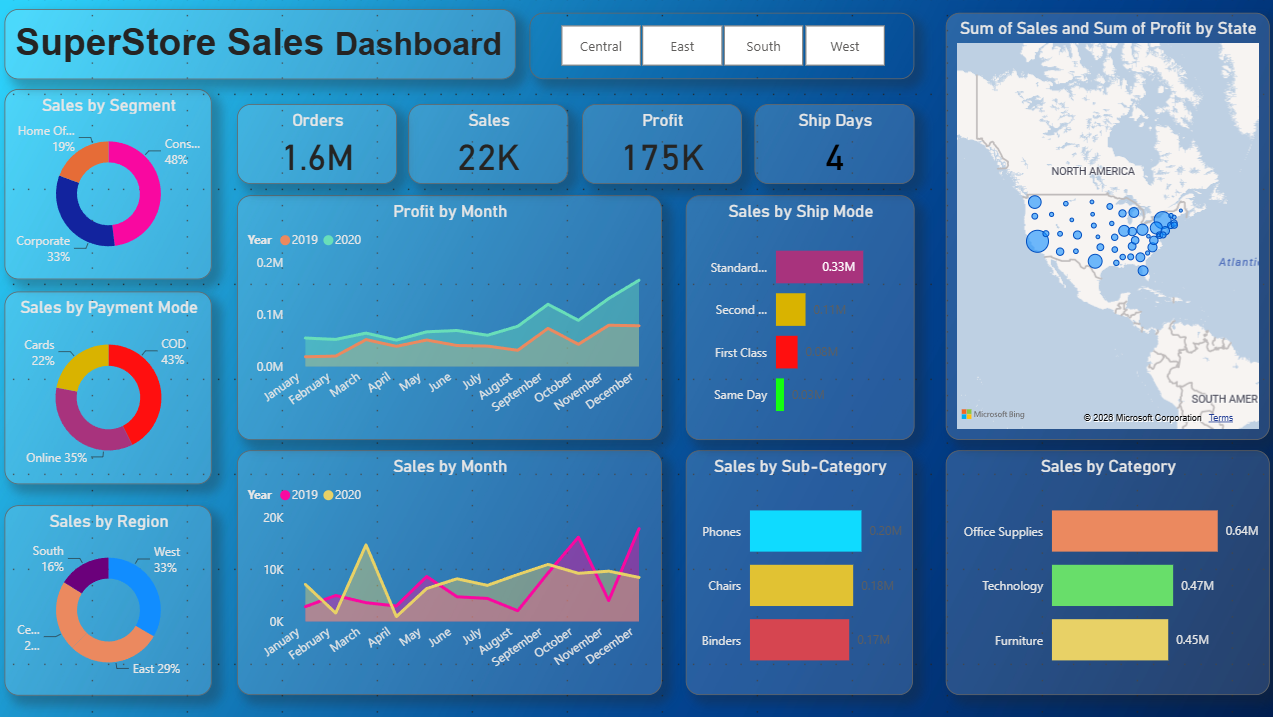

The page's visual inventory and layout, read from the dashboard file:
{"tool":"powerbi","page":{"name":"Page 1","canvas":[1280,720],"ordinal":0},"visuals":[{"type":"clusteredBarChart","title":"Sales by Category","fields":{"Category":["SuperStore_Sales_Dataset.Category"],"Y":["Sum(SuperStore_Sales_Dataset.Sales)"]},"box":[948.8,451.2,323.8,245],"z":0},{"type":"barChart","title":"Sales by Sub-Category","fields":{"Category":["SuperStore_Sales_Dataset.Sub-Category"],"Y":["Sum(SuperStore_Sales_Dataset.Sales)"]},"box":[688.8,451.2,227.5,245],"z":1000},{"type":"clusteredBarChart","title":"Sales by Ship Mode","fields":{"Y":["Sum(SuperStore_Sales_Dataset.Sales)"],"Category":["SuperStore_Sales_Dataset.Ship Mode"]},"box":[688.8,196.2,228.8,245],"z":2000},{"type":"areaChart","title":"Profit by Month","fields":{"Y":["Sum(SuperStore_Sales_Dataset.Sales)"],"Category":["SuperStore_Sales_Dataset.Order Date.Variation.Date Hierarchy.Month","SuperStore_Sales_Dataset.Order Date.Variation.Date Hierarchy.Day"],"Series":["SuperStore_Sales_Dataset.Order Date.Variation.Date Hierarchy.Year"]},"box":[240,196.2,425,245],"z":3000},{"type":"areaChart","title":"Sales by Month","fields":{"Category":["SuperStore_Sales_Dataset.Order Date.Variation.Date Hierarchy.Month","SuperStore_Sales_Dataset.Order Date.Variation.Date Hierarchy.Day"],"Series":["SuperStore_Sales_Dataset.Order Date.Variation.Date Hierarchy.Year"],"Y":["Sum(SuperStore_Sales_Dataset.Profit)"]},"box":[240,451.2,425,245],"z":4000},{"type":"map","fields":{"Category":["SuperStore_Sales_Dataset.State"],"Size":["Sum(SuperStore_Sales_Dataset.Sales)"]},"box":[948.8,13.8,323.8,427.5],"z":4001},{"type":"donutChart","title":"Sales by Segment","fields":{"Category":["SuperStore_Sales_Dataset.Segment"],"Y":["Sum(SuperStore_Sales_Dataset.Sales)"]},"box":[7.5,90,207.5,190],"z":4002},{"type":"donutChart","title":"Sales by Payment Mode","fields":{"Category":["SuperStore_Sales_Dataset.Payment Mode"],"Y":["Sum(SuperStore_Sales_Dataset.Sales)"]},"box":[7.5,292.5,207.5,192.5],"z":4003},{"type":"donutChart","title":"Sales by Region","fields":{"Y":["Sum(SuperStore_Sales_Dataset.Sales)"],"Category":["SuperStore_Sales_Dataset.Region"]},"box":[7.5,506.2,207.5,190],"z":4004},{"type":"slicer","fields":{"Values":["SuperStore_Sales_Dataset.Region"]},"box":[532.5,13.8,385,66.2],"z":4005},{"type":"textbox","box":[7.5,10,511.2,70],"z":4006},{"type":"card","title":"Orders","fields":{"Values":["Sum(SuperStore_Sales_Dataset.Sales)"]},"box":[240,105,160,80],"z":4008},{"type":"card","title":"Sales","fields":{"Values":["Sum(SuperStore_Sales_Dataset.Quantity)"]},"box":[411.2,105,160,80],"z":4009},{"type":"card","title":"Profit","fields":{"Values":["Sum(SuperStore_Sales_Dataset.Profit)"]},"box":[585,105,160,80],"z":4010},{"type":"card","title":"Ship Days","fields":{"Values":["Avg(SuperStore_Sales_Dataset.AvgDelivery)"]},"box":[757.5,105,160,80],"z":4011}]}

Visuals, with their boxes in screenshot pixels (x1, y1, x2, y2), scaled from the page's 1280x720 canvas onto the 1273x717 screenshot:
"Sales by Category" clusteredBarChart: [left=944, top=449, right=1266, bottom=693]
"Sales by Sub-Category" barChart: [left=685, top=449, right=911, bottom=693]
"Sales by Ship Mode" clusteredBarChart: [left=685, top=195, right=913, bottom=439]
"Profit by Month" areaChart: [left=239, top=195, right=661, bottom=439]
"Sales by Month" areaChart: [left=239, top=449, right=661, bottom=693]
map - SuperStore_Sales_Dataset.State x Sum(SuperStore_Sales_Dataset.Sales): [left=944, top=14, right=1266, bottom=439]
"Sales by Segment" donutChart: [left=7, top=90, right=214, bottom=279]
"Sales by Payment Mode" donutChart: [left=7, top=291, right=214, bottom=483]
"Sales by Region" donutChart: [left=7, top=504, right=214, bottom=693]
slicer - SuperStore_Sales_Dataset.Region: [left=530, top=14, right=912, bottom=80]
textbox: [left=7, top=10, right=516, bottom=80]
"Orders" card: [left=239, top=105, right=398, bottom=184]
"Sales" card: [left=409, top=105, right=568, bottom=184]
"Profit" card: [left=582, top=105, right=741, bottom=184]
"Ship Days" card: [left=753, top=105, right=912, bottom=184]
